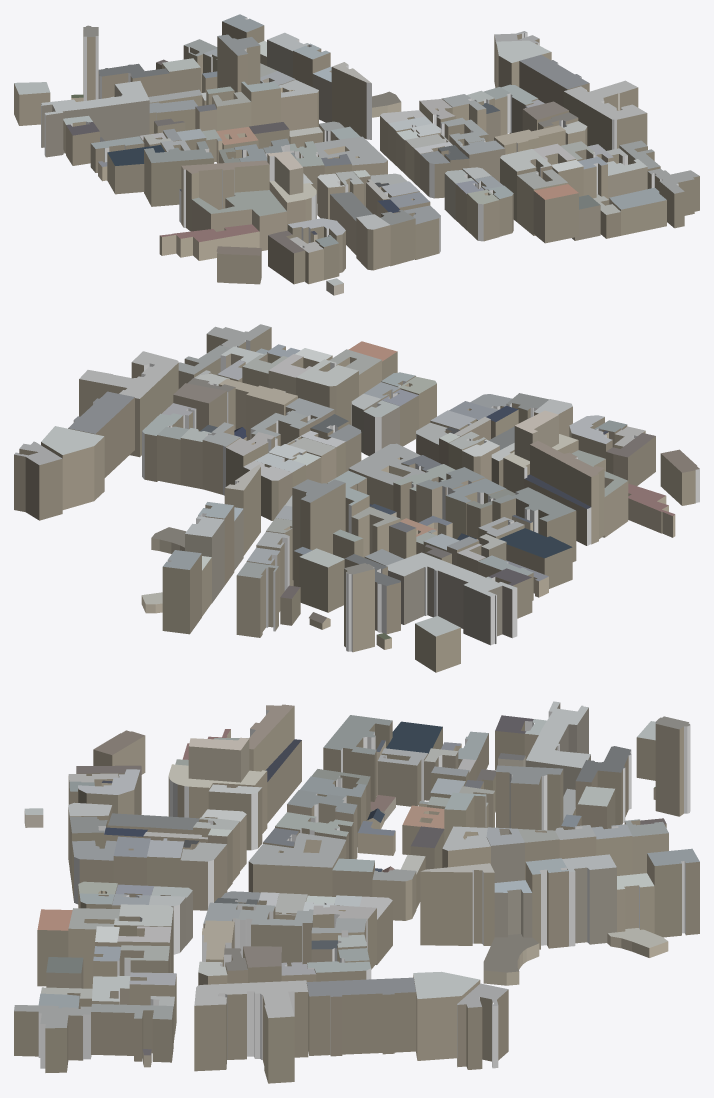
The picture shows the model from 3 angles, top to bottom: view 1: azimuth 30°, elevation 25°; view 2: azimuth 150°, elevation 25°; view 3: azimuth 270°, elevation 25°; orthographic projection. The views are drawn at different scales.
Parts seen in each view (by area): view 1: tuile; view 2: tuile; view 3: tuile.
Part boxes in pixels (x1,y1,x2,y2): tuile: [14, 14, 699, 295]; tuile: [14, 324, 699, 672]; tuile: [14, 701, 699, 1083].
Size of the model in its own units: 286 by 56.06 by 266.
